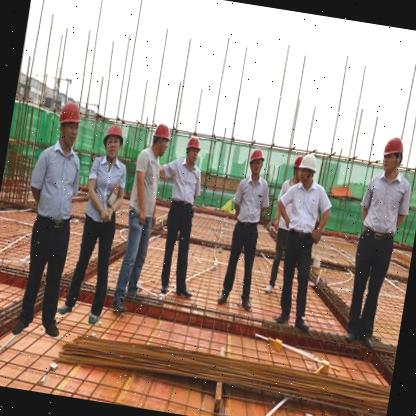capacete: (54, 99, 83, 149), (378, 135, 404, 177), (100, 122, 126, 160), (150, 121, 172, 158), (296, 152, 318, 184), (183, 135, 202, 164), (247, 148, 265, 176)
sem_colete_refletivo: (23, 138, 89, 230), (355, 169, 415, 243), (273, 176, 336, 240), (79, 150, 132, 225), (124, 144, 167, 224), (228, 170, 274, 230), (166, 153, 208, 209)
